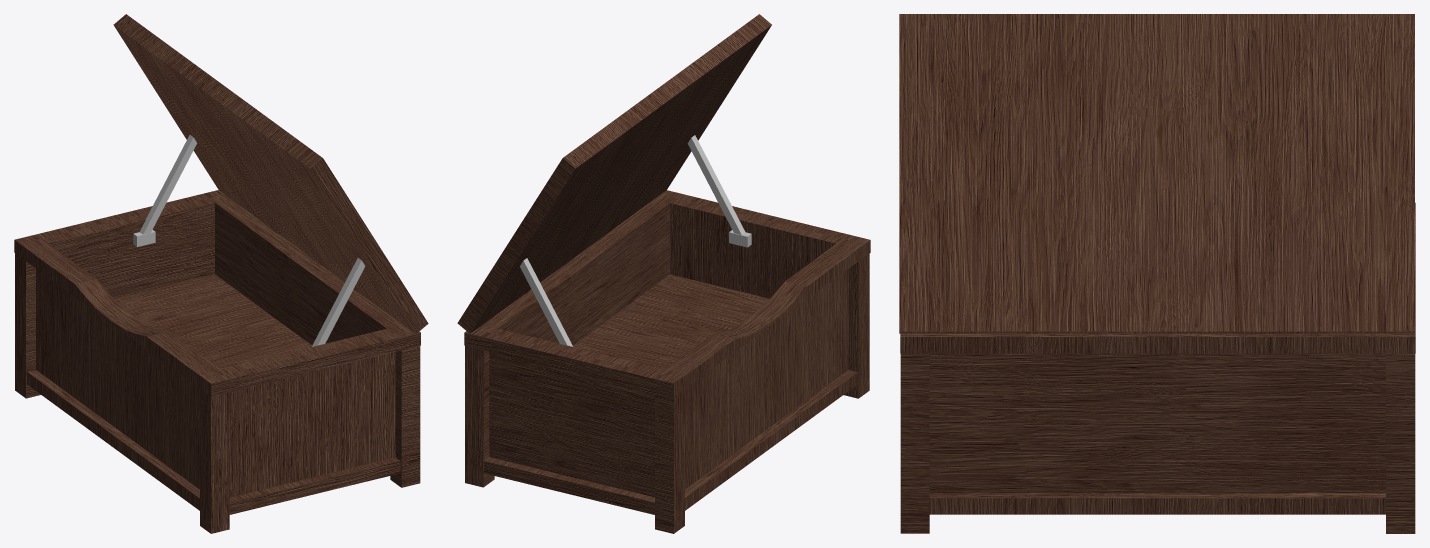
File: ToyBox.fbx
The picture shows the model from 3 angles, left to right: view 1: azimuth 30°, elevation 25°; view 2: azimuth 150°, elevation 25°; view 3: azimuth 270°, elevation 25°; orthographic projection. The views are drawn at different scales.
Visible parts, largest first — view 1: Toy_Box, MetalHinges; view 2: Toy_Box, MetalHinges; view 3: Toy_Box.
Boxes of the visible parts, box(x1,y1,x2,y2) form: Toy_Box: box(14, 14, 428, 533); MetalHinges: box(133, 135, 365, 346); Toy_Box: box(457, 14, 870, 533); MetalHinges: box(520, 135, 751, 346); Toy_Box: box(899, 14, 1415, 533).
Size of the model in its own units: 1013 by 1557 by 1592.
Materials: 2 (2 with a texture image).
